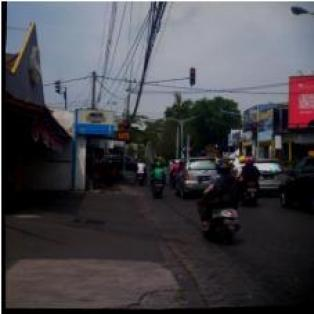Semaforo Rojo: (189, 69, 196, 87), (252, 123, 259, 141)
